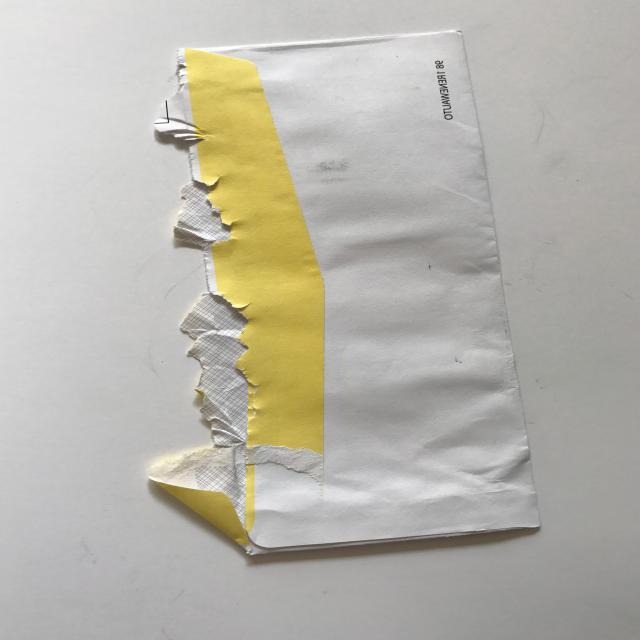paper: (89, 17, 576, 578)
